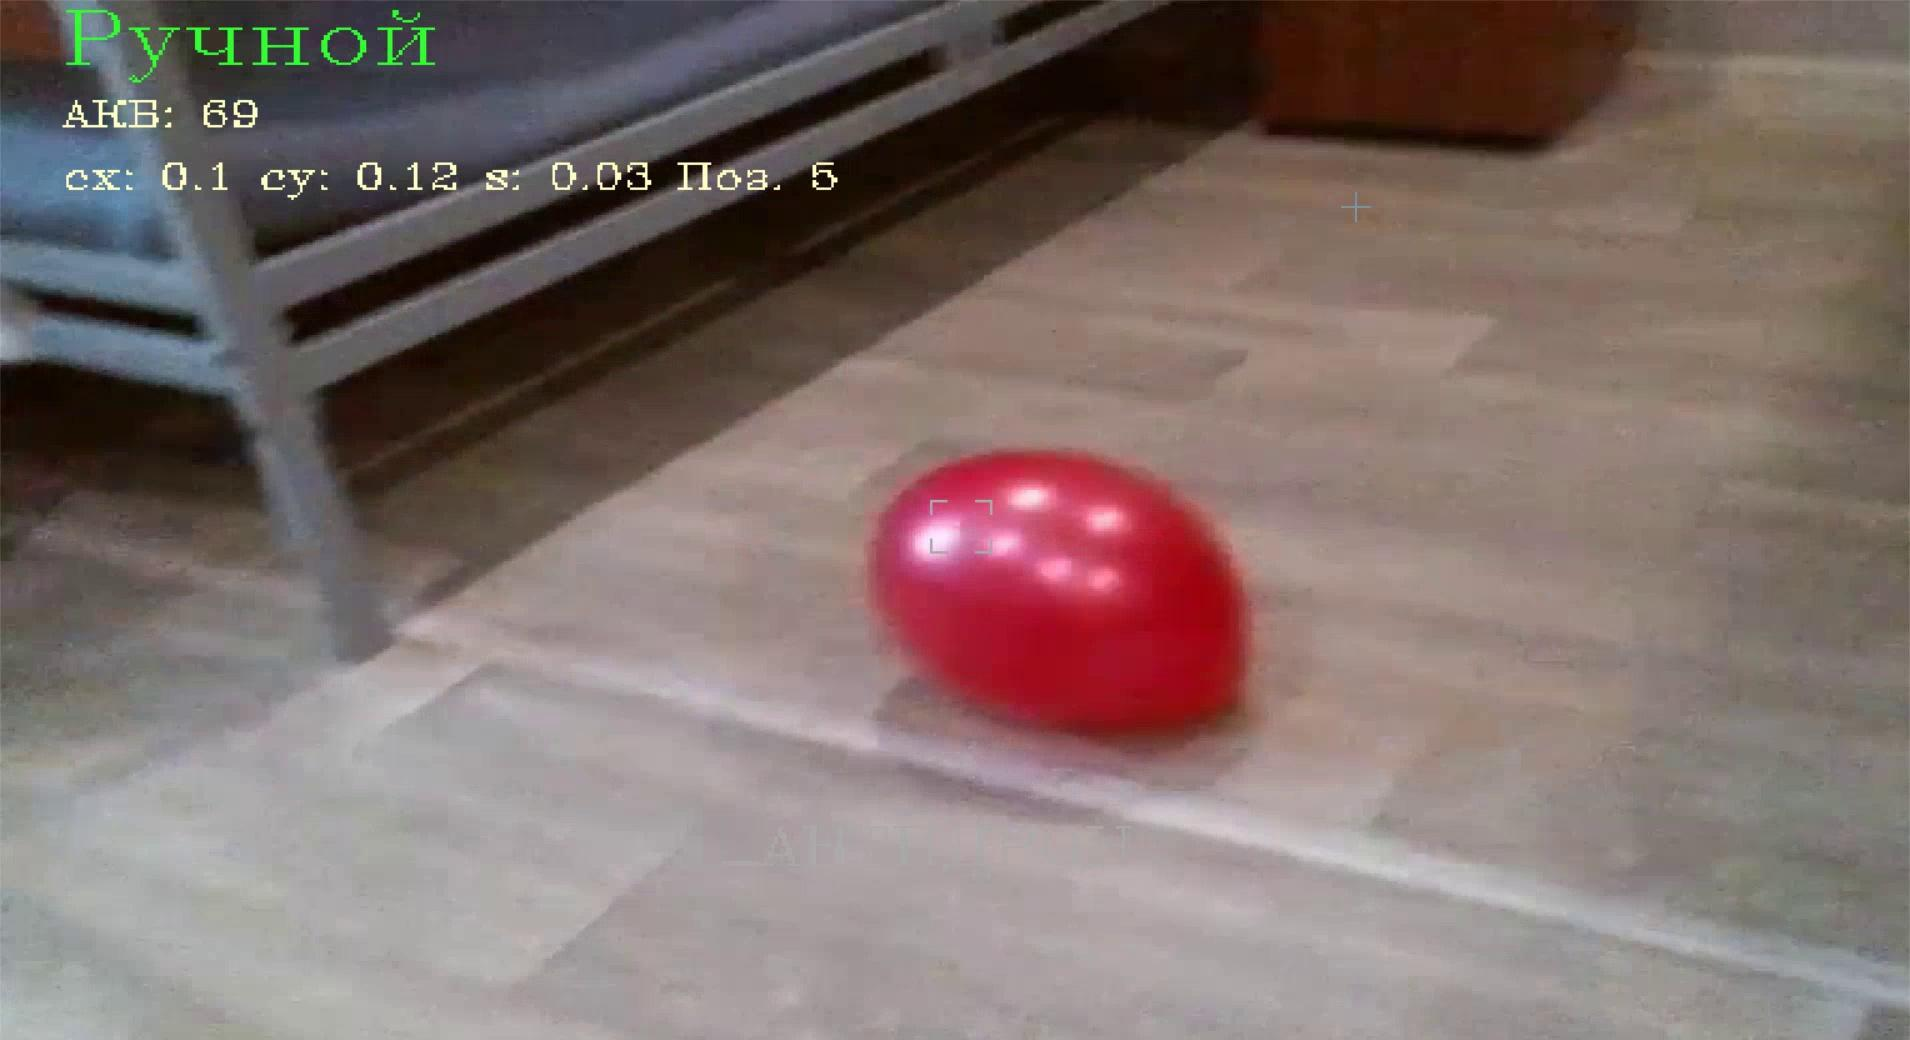red: (868, 447, 1252, 743)
